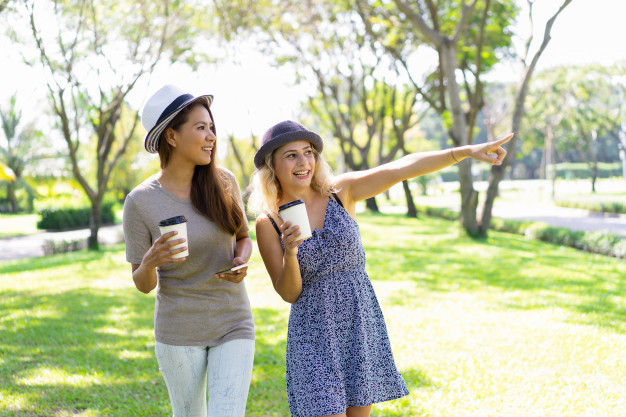bare: (178, 133, 219, 165), (272, 161, 316, 187)
